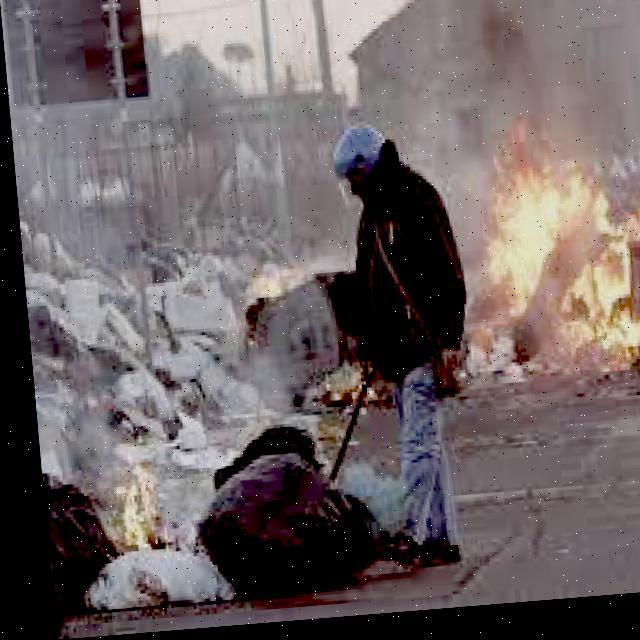Fire: (449, 139, 639, 374), (70, 458, 169, 568), (226, 266, 312, 332)
